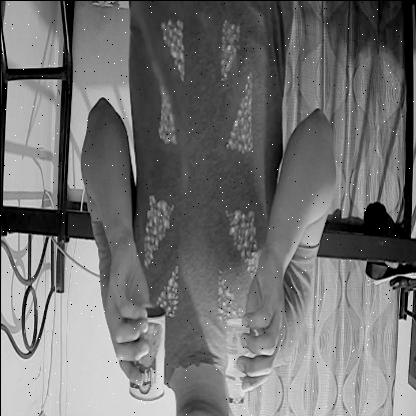Others: (216, 308, 268, 404)
